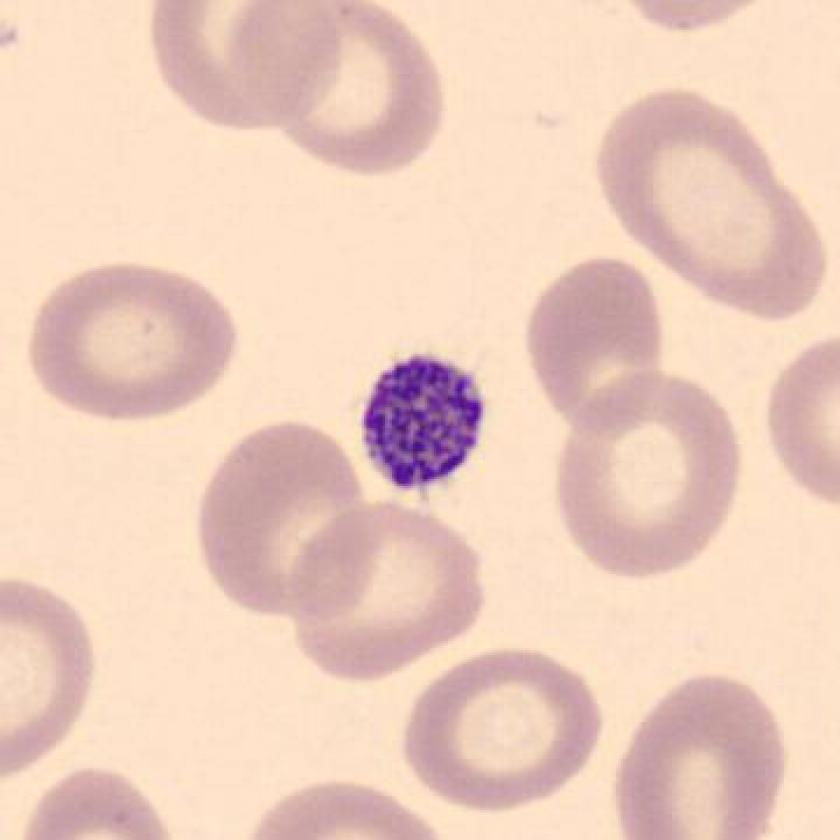platelets: (356, 344, 498, 503)
